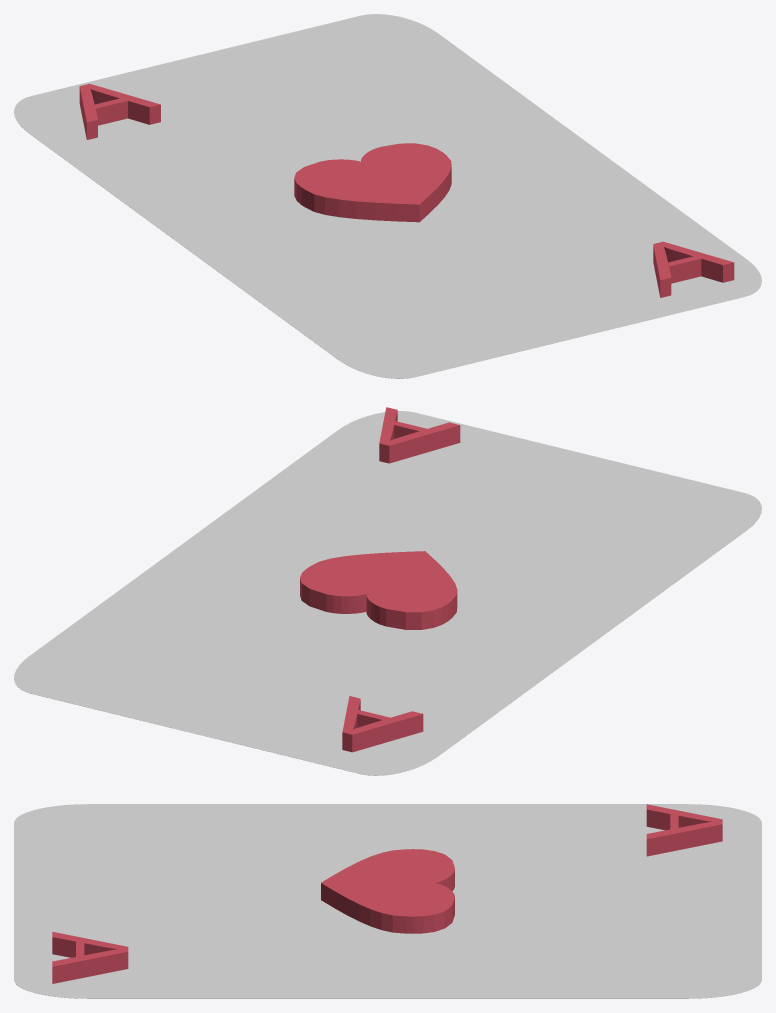
File: ace_hearts.glb
The picture shows the model from 3 angles, top to bottom: view 1: azimuth 30°, elevation 25°; view 2: azimuth 150°, elevation 25°; view 3: azimuth 270°, elevation 25°; orthographic projection. The views are drawn at different scales.
Visible parts, largest first — view 1: Mesh_Mesh_head_geo.001_lambert2SG.001; view 2: Mesh_Mesh_head_geo.001_lambert2SG.001; view 3: Mesh_Mesh_head_geo.001_lambert2SG.001.
Part boxes in pixels (<box>): Mesh_Mesh_head_geo.001_lambert2SG.001: <box>14,14,761,378</box>; Mesh_Mesh_head_geo.001_lambert2SG.001: <box>14,407,761,775</box>; Mesh_Mesh_head_geo.001_lambert2SG.001: <box>14,804,761,998</box>.
Size of the model in its own units: 24 by 1 by 39.
